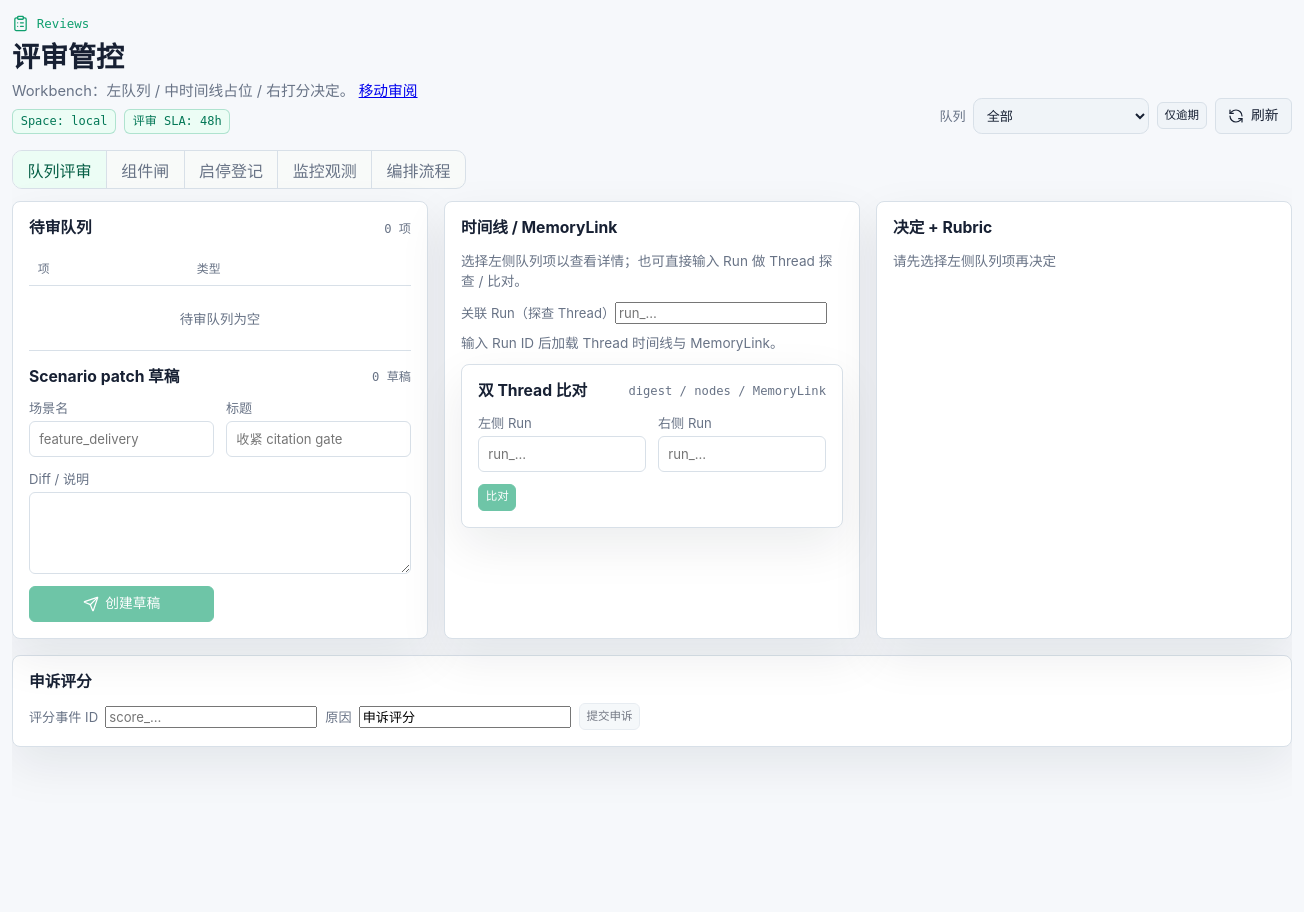
Test: ReviewsPage › shows empty queue copy for overdue filter
This screenshot has width=1304, height=912.
Expected: the cell with test id "reviews-empty" reads "待审队列为空", [180,311,260,327]
Step 1. Click the button with test id "reviews-filter-overdue" → click(1182, 116), box [1157,102,1207,130]
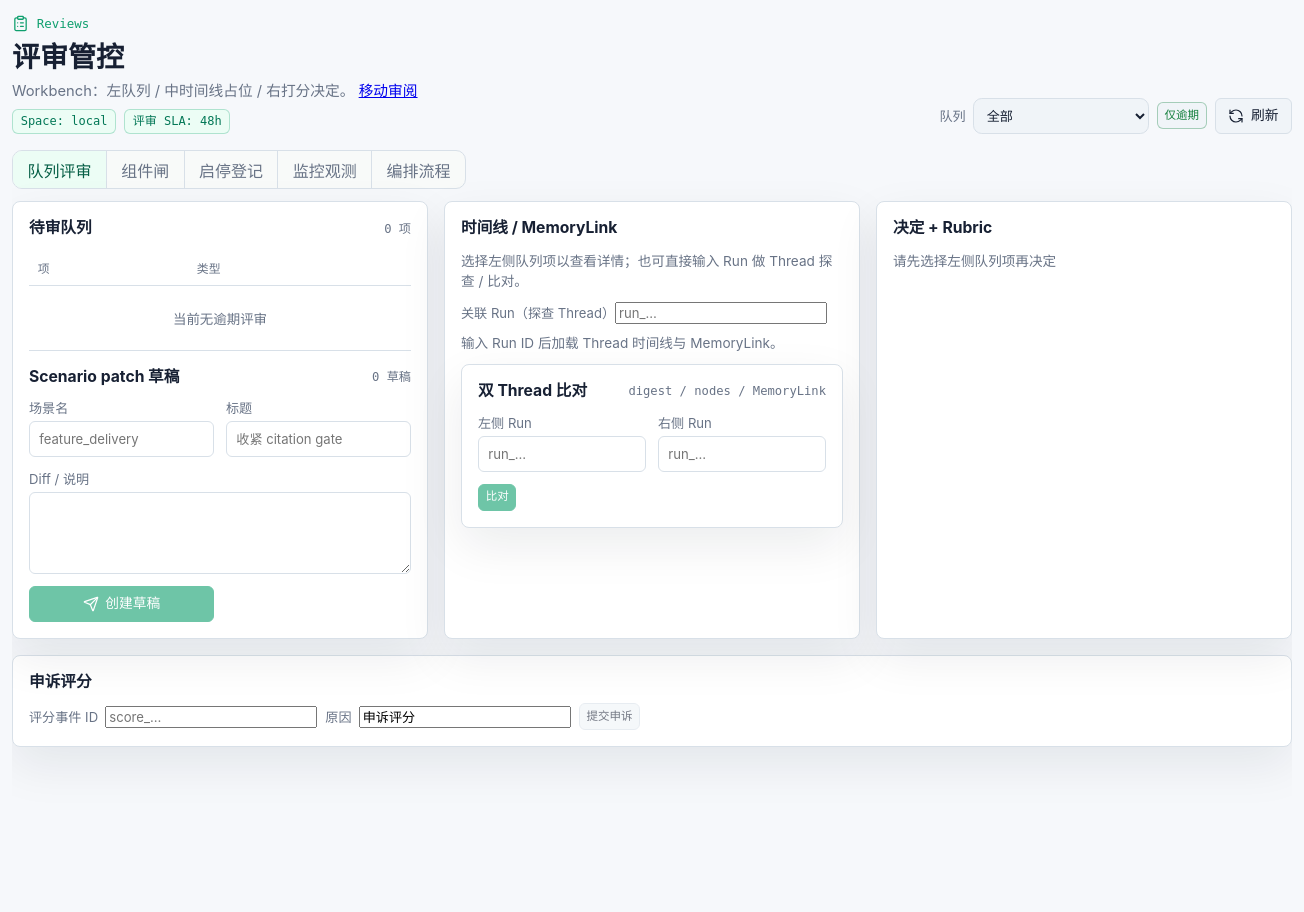
Result: the cell with test id "reviews-empty" reads "当前无逾期评审" at [173,311,267,327]
